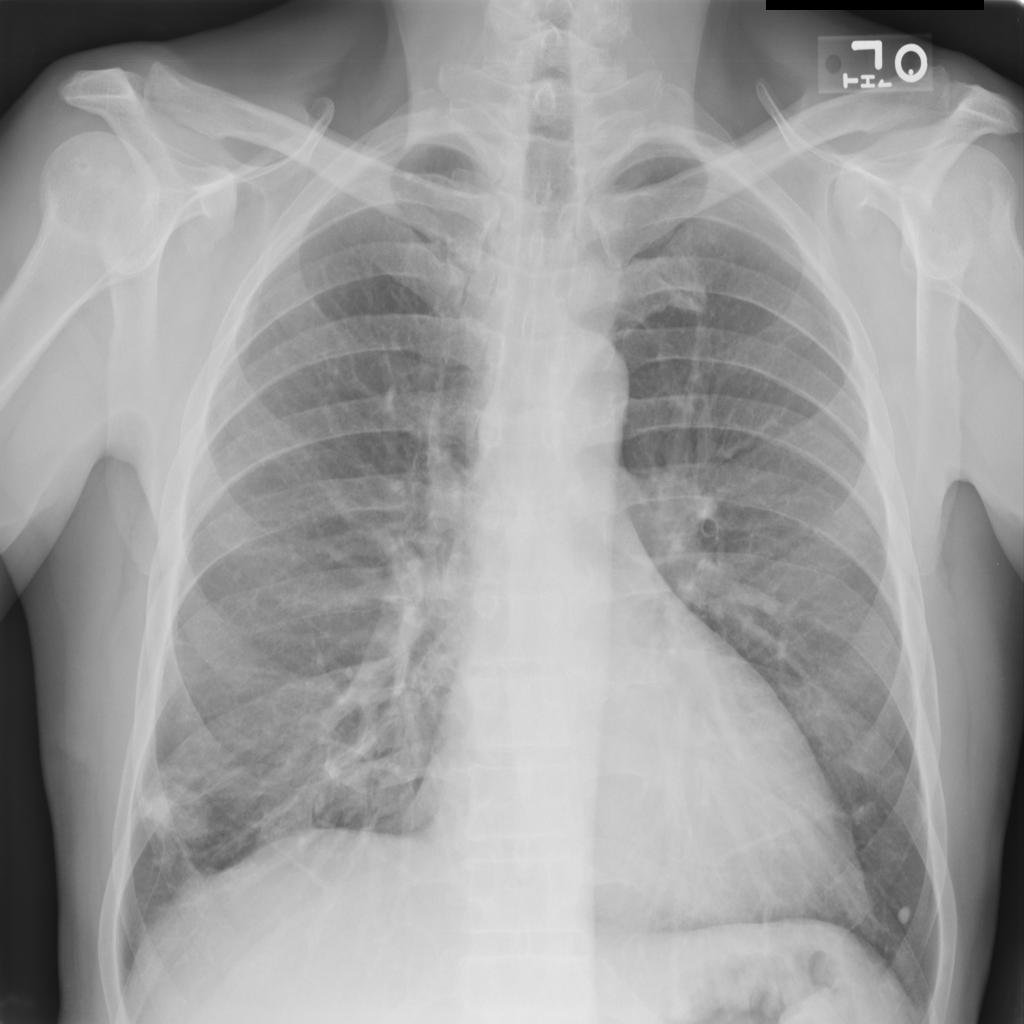nodule: (122, 758, 233, 863), (840, 785, 889, 838), (889, 892, 922, 935)
